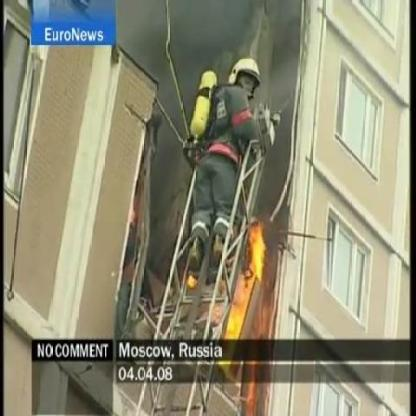fire: (231, 211, 278, 344), (186, 272, 198, 286)
